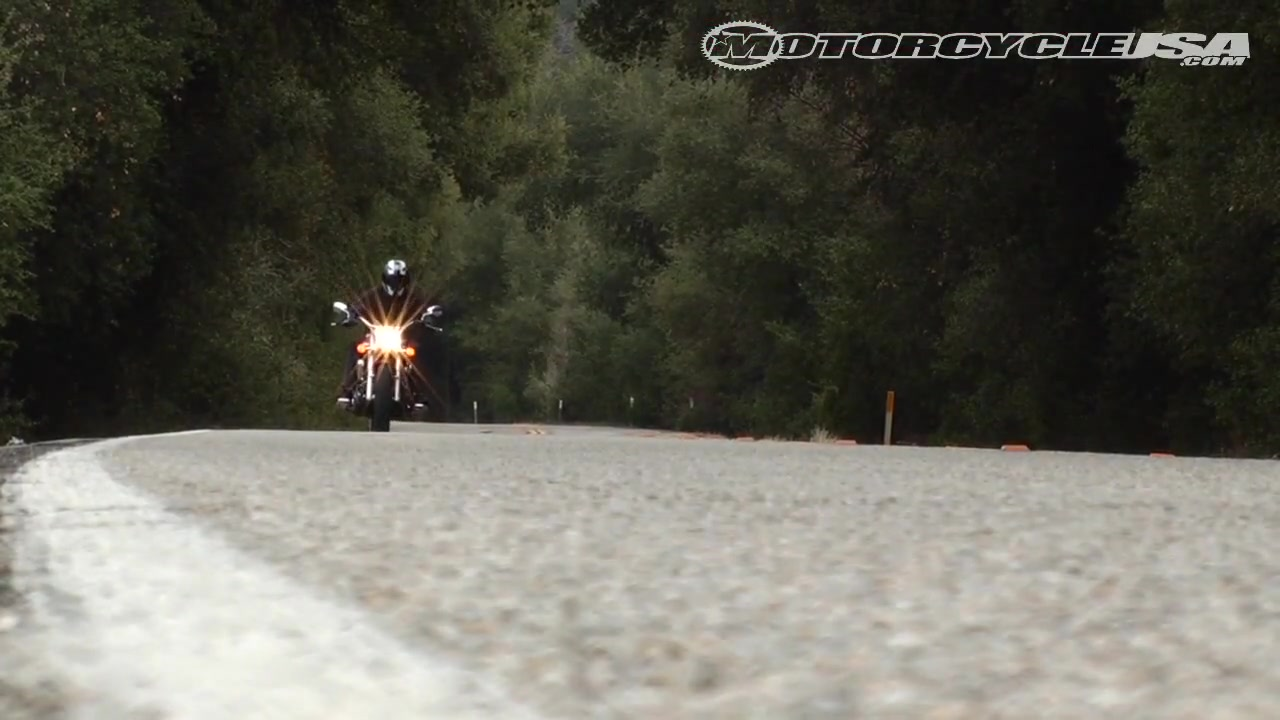motorbike: (330, 297, 448, 435)
